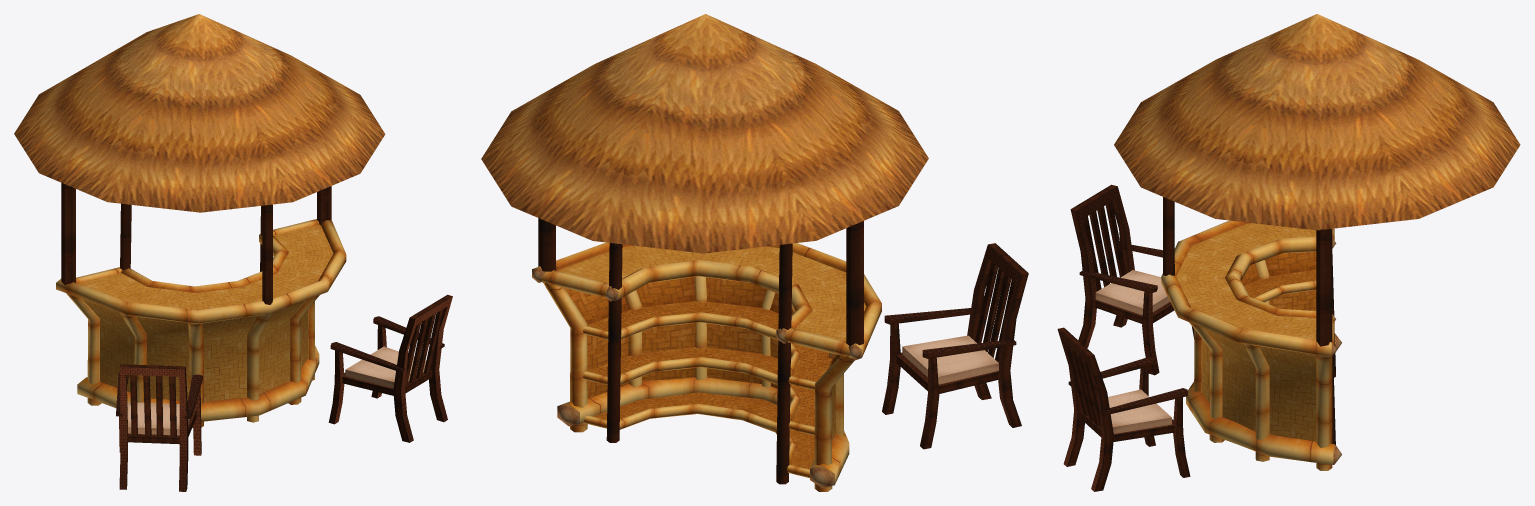
Rendered from SC_HDjianzhu06.FBX.
3 views of the same model, side by side, from view 1: azimuth 30°, elevation 25°; view 2: azimuth 150°, elevation 25°; view 3: azimuth 270°, elevation 25° (orthographic). The views are drawn at different scales.
Parts seen in each view (by area): view 1: SC_HDjianzhu06; view 2: SC_HDjianzhu06; view 3: SC_HDjianzhu06.
Part boxes in pixels (x1=…): SC_HDjianzhu06: x1=14, y1=14, x2=452, y2=491; SC_HDjianzhu06: x1=481, y1=14, x2=1028, y2=491; SC_HDjianzhu06: x1=1057, y1=14, x2=1520, y2=491.
Size of the model in its own units: 145 by 151 by 159.
